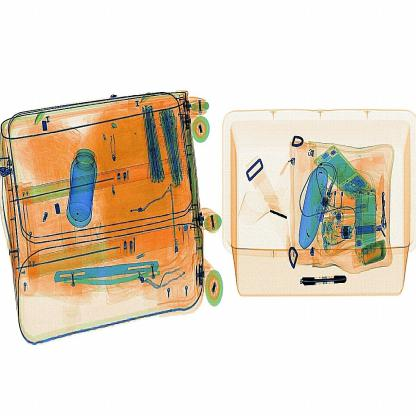knife: (297, 274, 351, 289)
